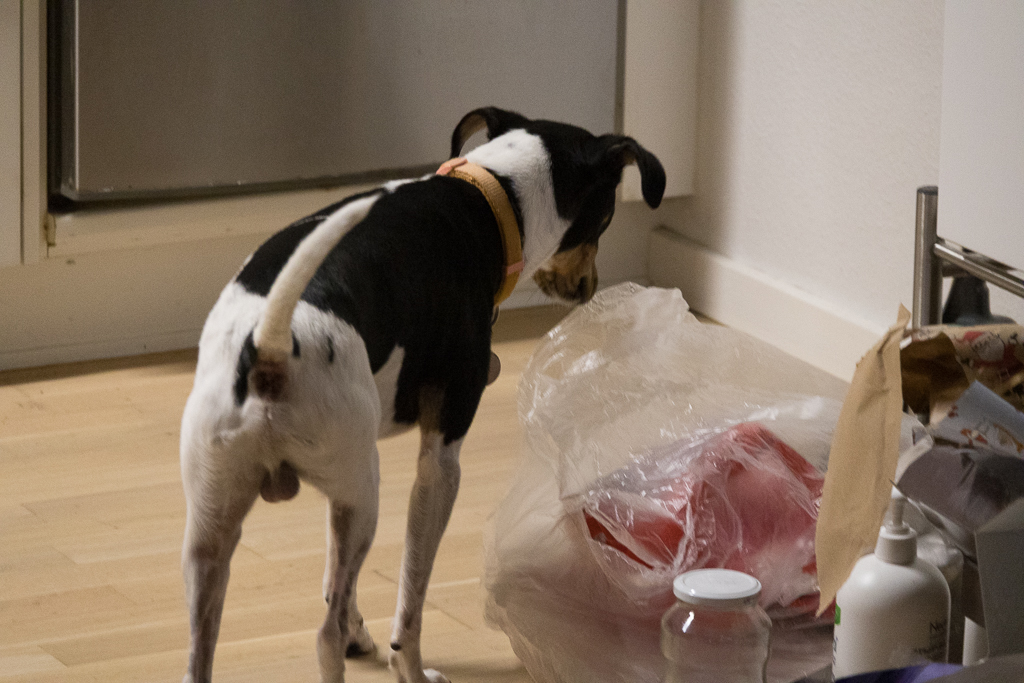Dog: (165, 99, 675, 683)
